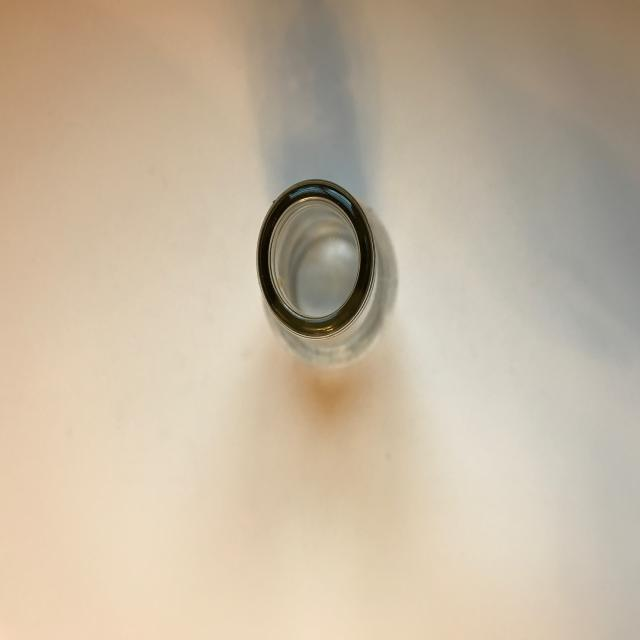metal: (255, 176, 382, 363)
